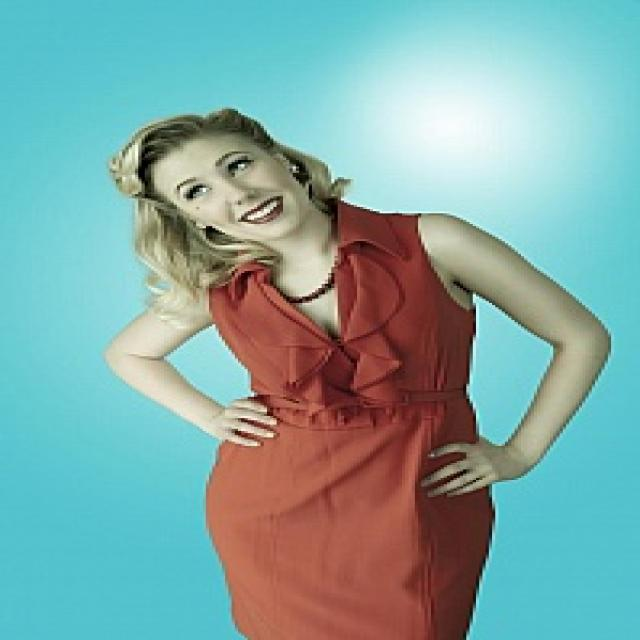Eyes: (162, 153, 260, 210)
